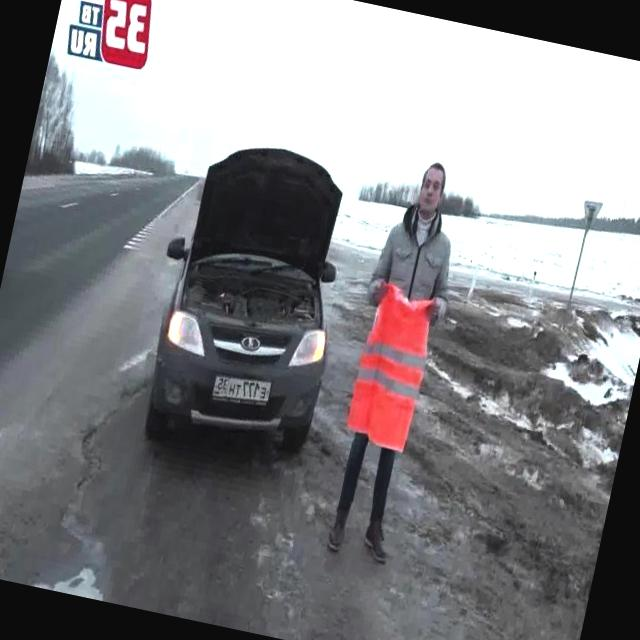vest: (341, 280, 444, 459)
